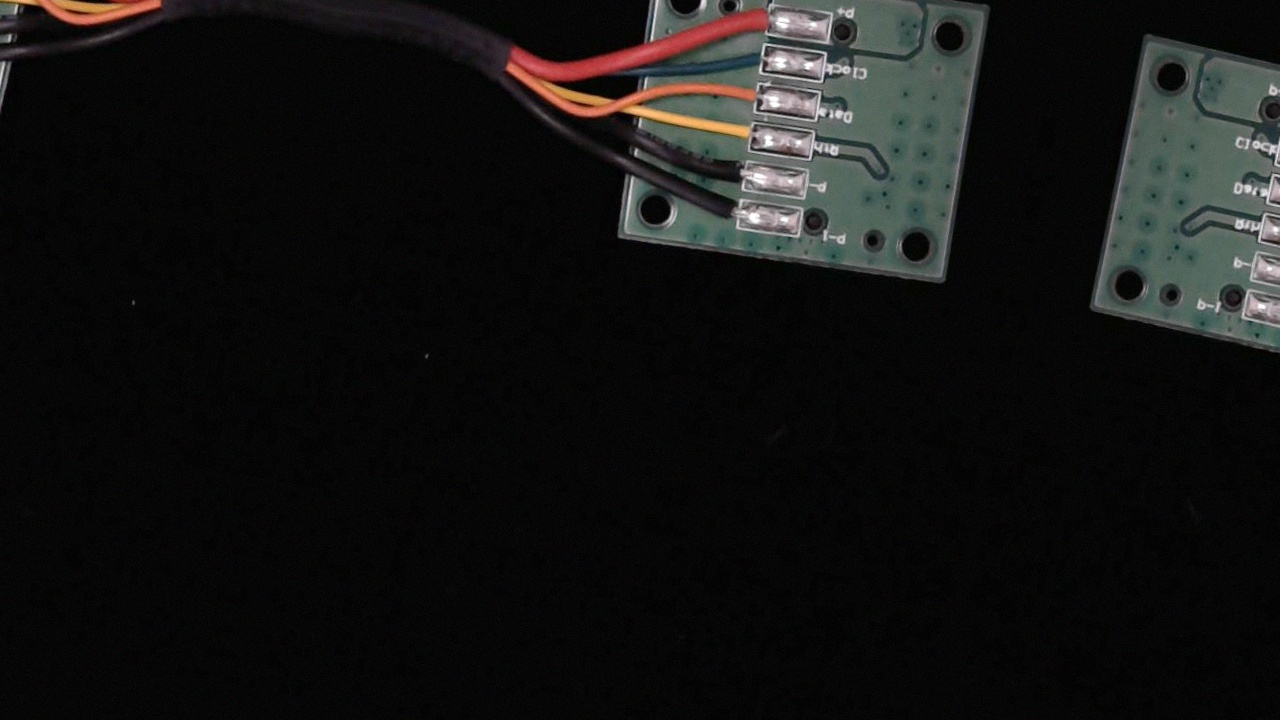Black: (690, 152, 762, 192)
Black1: (686, 191, 758, 235)
Green: (721, 35, 782, 77)
Orange: (714, 74, 778, 116)
Red: (724, 0, 788, 39)
Yellow: (703, 113, 771, 152)
